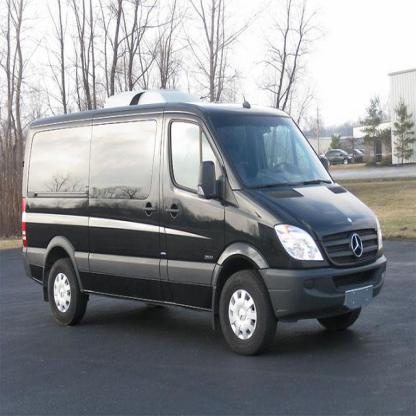Vehicle: (22, 94, 387, 355)
